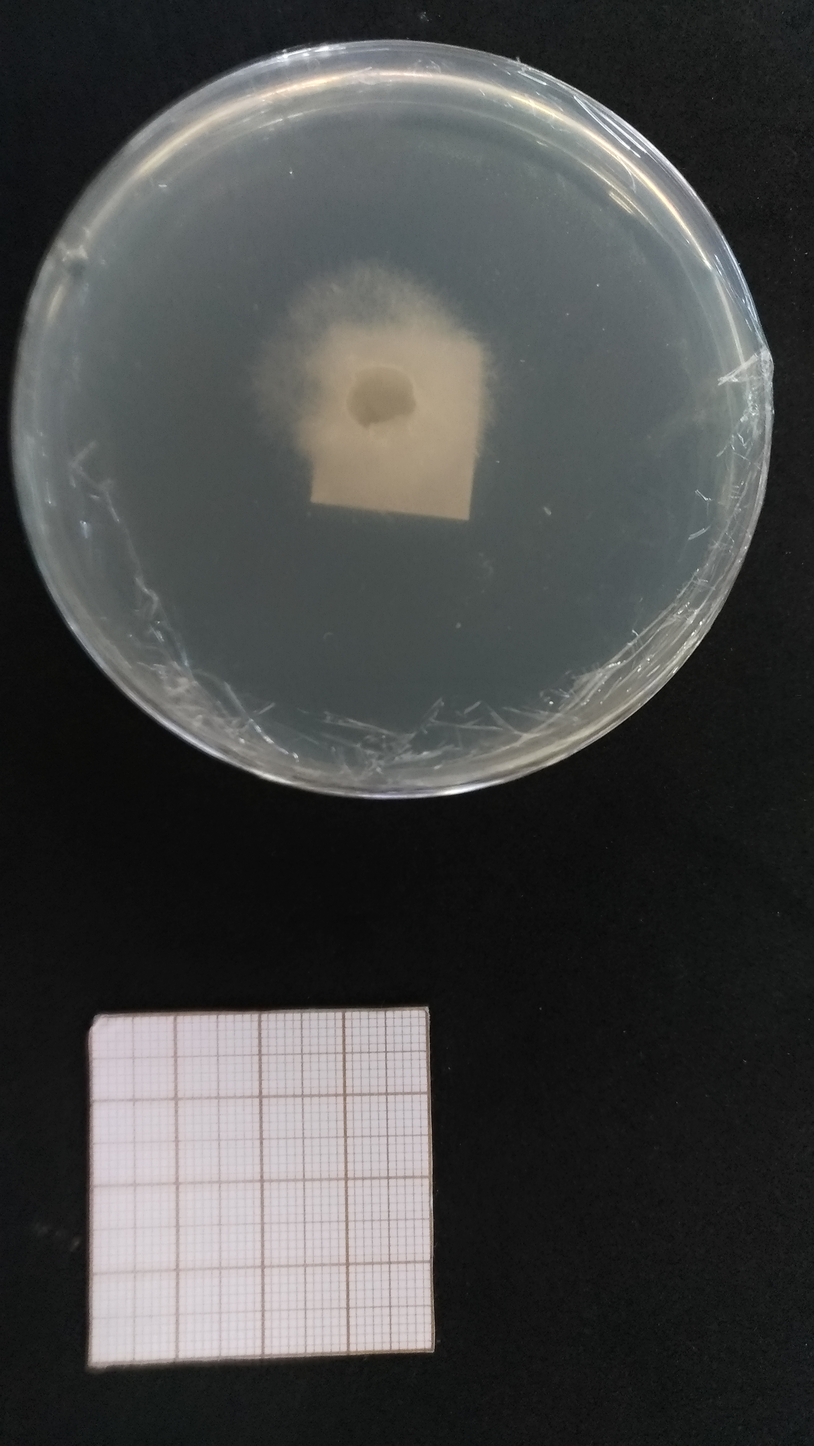escala: (91, 1007, 435, 1372)
fungo: (248, 270, 474, 474)
